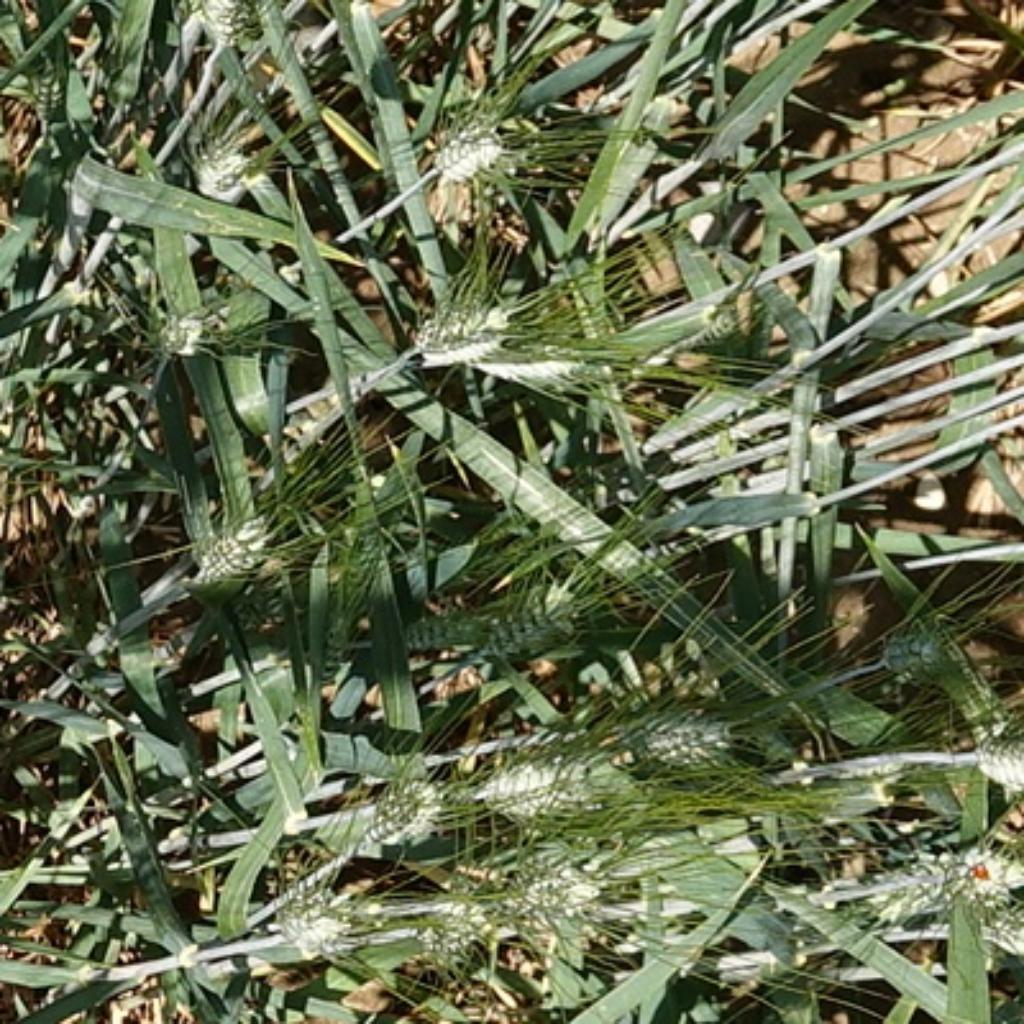0-0: (471, 742, 631, 833), (494, 834, 619, 942), (376, 591, 529, 678), (473, 578, 609, 670), (299, 540, 384, 686), (876, 843, 1024, 923), (401, 271, 522, 363), (419, 89, 527, 189), (622, 701, 750, 781), (135, 273, 248, 358), (352, 759, 448, 855), (192, 560, 314, 632), (179, 491, 273, 581), (274, 879, 369, 960), (863, 619, 960, 698), (7, 23, 71, 133), (179, 117, 261, 194), (659, 305, 795, 351), (415, 896, 496, 971), (166, 2, 261, 53), (971, 728, 1024, 797)
